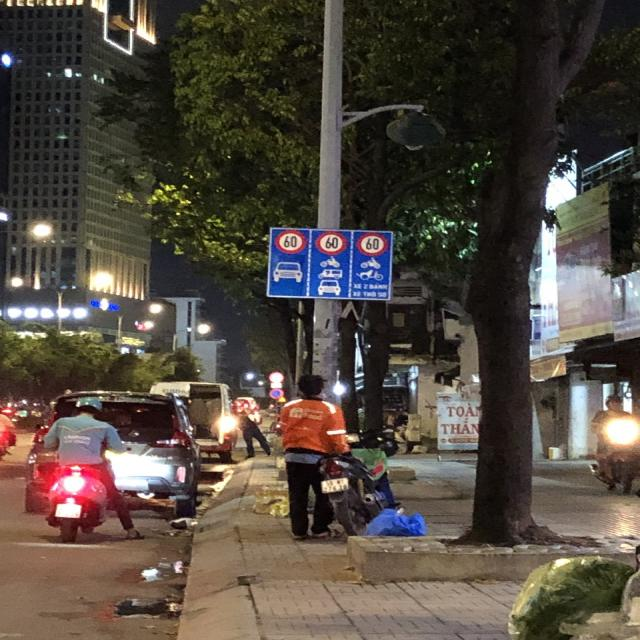Bien bao toc do toi da cho phep: (354, 231, 392, 259), (313, 229, 350, 257), (272, 228, 310, 255)
